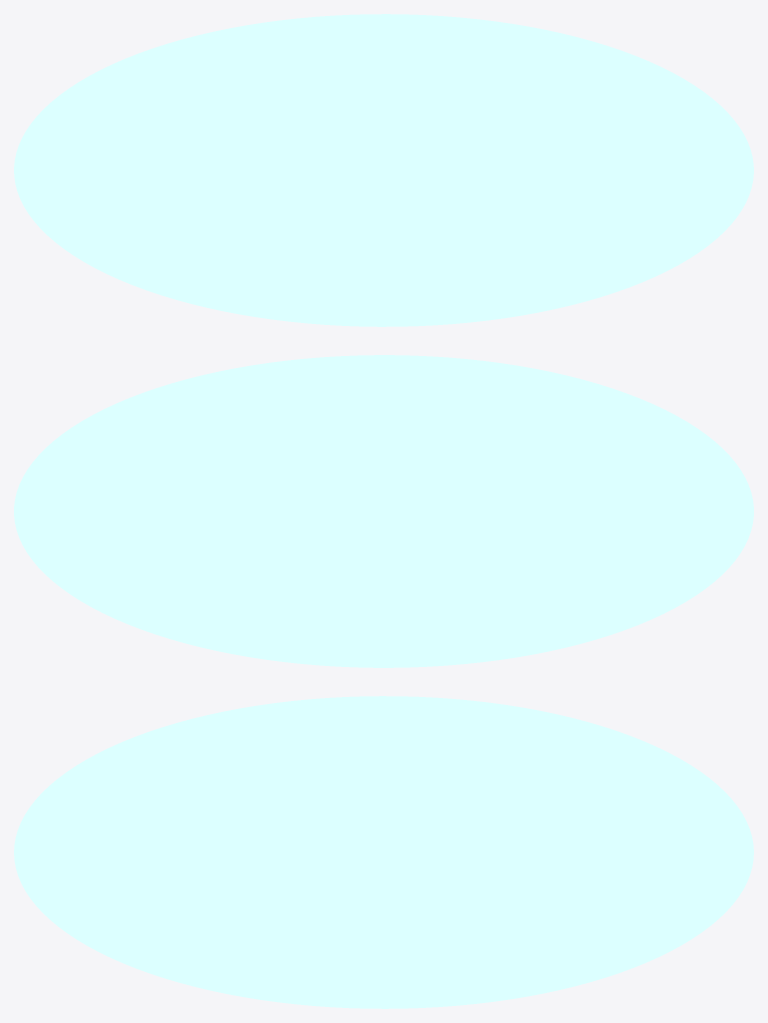
The model's file is Water.glb.
3 views of the same model, one above another, from view 1: azimuth 30°, elevation 25°; view 2: azimuth 150°, elevation 25°; view 3: azimuth 270°, elevation 25° (orthographic).
Parts seen in each view (by area): view 1: 浅水与平面反射; view 2: 浅水与平面反射; view 3: 浅水与平面反射.
Part boxes in pixels (left/top/right/bottom): 浅水与平面反射: left=14, top=14, right=753, bottom=326; 浅水与平面反射: left=14, top=355, right=753, bottom=667; 浅水与平面反射: left=14, top=696, right=753, bottom=1008.
Bounding box in the file's own units: 58 × 0 × 58.
